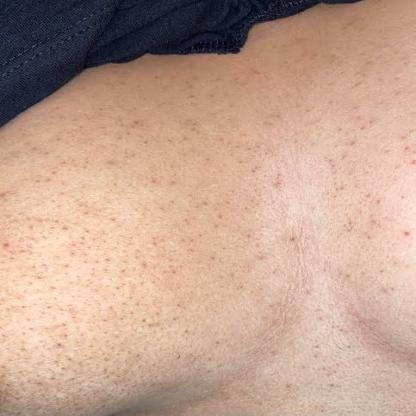Chicken Skin: (5, 147, 91, 407)
